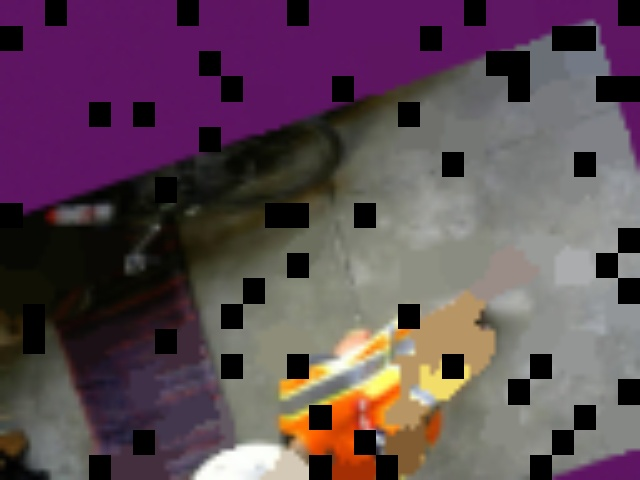three: (235, 476, 289, 479)
